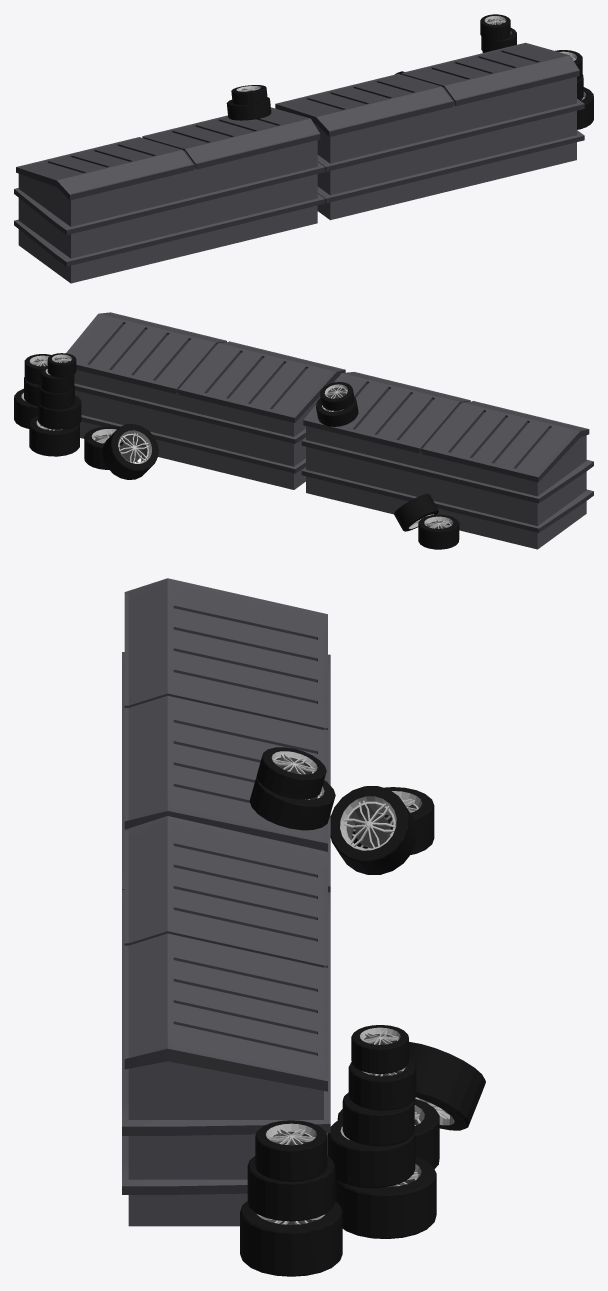
The model's file is dust_bin_1_T2.fbx.
The picture shows the model from 3 angles, top to bottom: view 1: azimuth 30°, elevation 25°; view 2: azimuth 150°, elevation 25°; view 3: azimuth 270°, elevation 25°; orthographic projection. The views are drawn at different scales.
Visible parts, largest first — view 1: pCube112, pCube111, devida19, devida17, devida13, devida21; view 2: pCube112, pCube111, devida16, devida18, devida20, devida17, devida19, devida21, devida13; view 3: pCube111, pCube112, devida17, devida18, devida20, devida16, devida19, devida21, devida13.
Part boxes in pixels (<box>): pCube112: <box>14,107,325,283</box>; pCube111: <box>275,42,584,220</box>; devida19: <box>480,14,516,52</box>; devida17: <box>555,50,593,129</box>; devida13: <box>226,97,271,120</box>; devida21: <box>231,85,267,104</box>; pCube112: <box>301,372,593,549</box>; pCube111: <box>66,312,345,489</box>; devida16: <box>84,424,158,479</box>; devida18: <box>29,384,81,456</box>; devida20: <box>394,494,459,549</box>; devida17: <box>14,354,51,428</box>; devida19: <box>40,353,76,393</box>; devida21: <box>320,382,354,410</box>; devida13: <box>316,394,358,426</box>; pCube111: <box>122,816,330,1226</box>; pCube112: <box>122,578,330,892</box>; devida17: <box>240,1120,342,1276</box>; devida18: <box>327,1092,436,1238</box>; devida20: <box>330,786,434,874</box>; devida16: <box>337,1042,485,1168</box>; devida19: <box>348,1025,416,1110</box>; devida21: <box>256,747,326,799</box>; devida13: <box>249,776,335,830</box>.
Size of the model in its own units: 2931 by 551 by 865.
